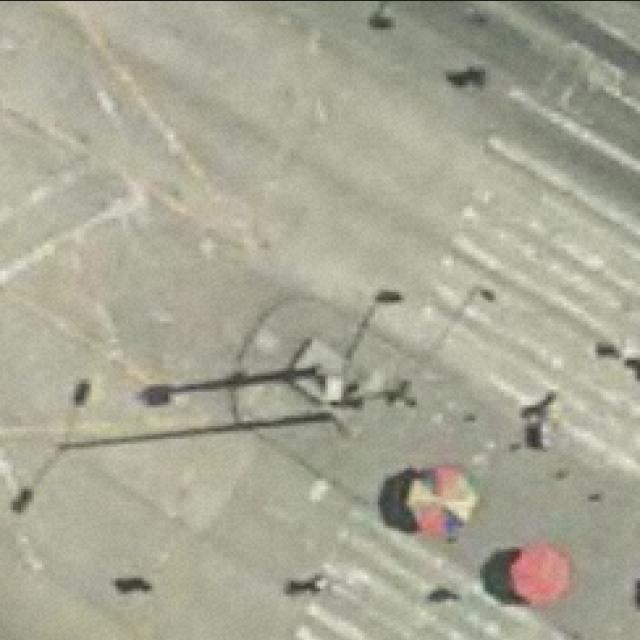vendedor_ambulante: (406, 456, 484, 543), (504, 537, 576, 609)
